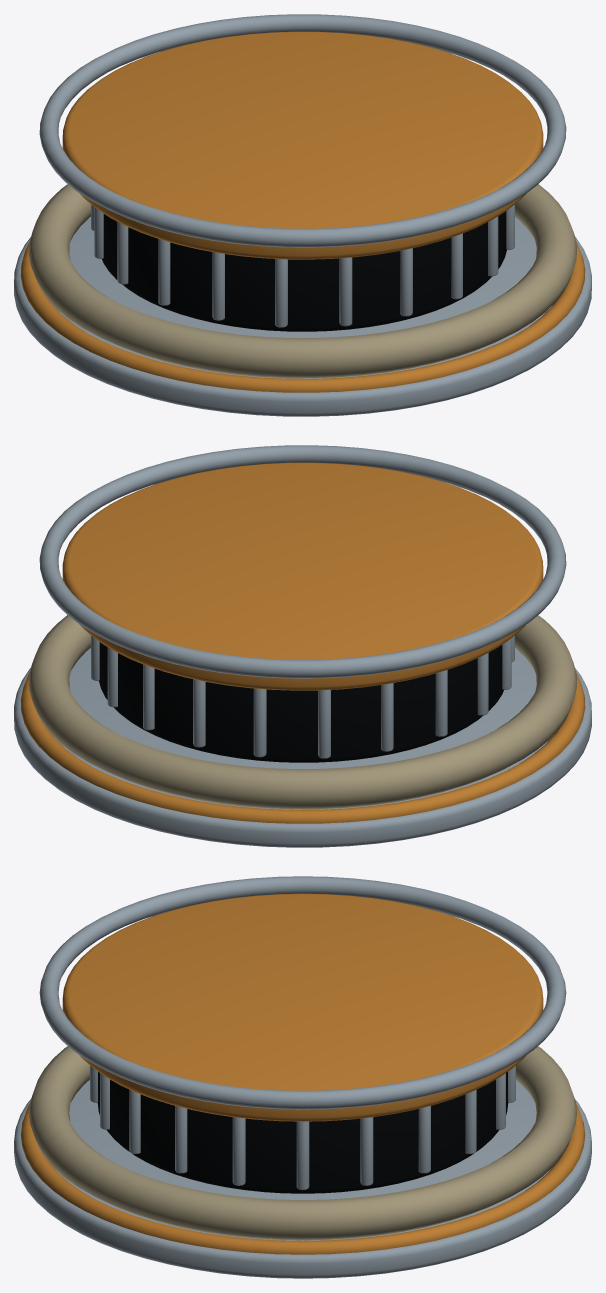
Rendered from bumper-base.dae.
The picture shows the model from 3 angles, top to bottom: view 1: azimuth 30°, elevation 25°; view 2: azimuth 150°, elevation 25°; view 3: azimuth 270°, elevation 25°; orthographic projection.
Parts seen in each view (by area): view 1: Upper collar, Impact cushion, Foot • bevelled chrome, Upper rolled lip, Recessed actuator body, Lower protective bead, Collar flute 14, Collar flute 13, Collar flute 12, Collar flute 15, Collar flute 11, Collar flute 16 (+2 smaller); view 2: Upper collar, Impact cushion, Foot • bevelled chrome, Upper rolled lip, Recessed actuator body, Lower protective bead, Collar flute 06, Collar flute 07, Collar flute 08, Collar flute 05, Collar flute 09, Collar flute 04 (+2 smaller); view 3: Upper collar, Impact cushion, Foot • bevelled chrome, Upper rolled lip, Recessed actuator body, Lower protective bead, Collar flute 00, Collar flute 01, Collar flute 19, Collar flute 02, Collar flute 18, Collar flute 03 (+3 smaller).
Boxes of the visible parts, <box> form: Upper collar: <box>62,31,543,259</box>; Impact cushion: <box>29,184,576,378</box>; Foot • bevelled chrome: <box>14,217,591,416</box>; Upper rolled lip: <box>39,14,566,247</box>; Recessed actuator body: <box>102,211,506,331</box>; Lower protective bead: <box>20,241,585,392</box>; Collar flute 14: <box>339,257,352,326</box>; Collar flute 13: <box>275,259,287,327</box>; Collar flute 12: <box>212,252,224,320</box>; Collar flute 15: <box>400,248,412,316</box>; Collar flute 11: <box>158,239,170,305</box>; Collar flute 16: <box>451,233,462,299</box>; Upper collar: <box>62,462,543,690</box>; Impact cushion: <box>29,615,576,809</box>; Foot • bevelled chrome: <box>14,648,591,847</box>; Upper rolled lip: <box>39,445,566,678</box>; Recessed actuator body: <box>99,642,503,762</box>; Lower protective bead: <box>20,672,585,823</box>; Collar flute 06: <box>253,688,266,757</box>; Collar flute 07: <box>318,690,330,758</box>; Collar flute 08: <box>381,683,393,751</box>; Collar flute 05: <box>193,679,205,747</box>; Collar flute 09: <box>435,670,447,736</box>; Collar flute 04: <box>143,664,154,730</box>; Upper collar: <box>62,893,543,1121</box>; Impact cushion: <box>29,1046,576,1240</box>; Foot • bevelled chrome: <box>14,1080,591,1278</box>; Upper rolled lip: <box>39,876,566,1109</box>; Recessed actuator body: <box>97,1072,508,1193</box>; Lower protective bead: <box>20,1104,585,1254</box>; Collar flute 00: <box>296,1121,309,1189</box>; Collar flute 01: <box>360,1117,373,1185</box>; Collar flute 19: <box>232,1117,245,1185</box>; Collar flute 02: <box>418,1106,430,1173</box>; Collar flute 18: <box>175,1106,187,1173</box>; Collar flute 03: <box>465,1089,476,1153</box>.
Size of the model in its own units: 2.14 by 0.7108 by 2.14.
